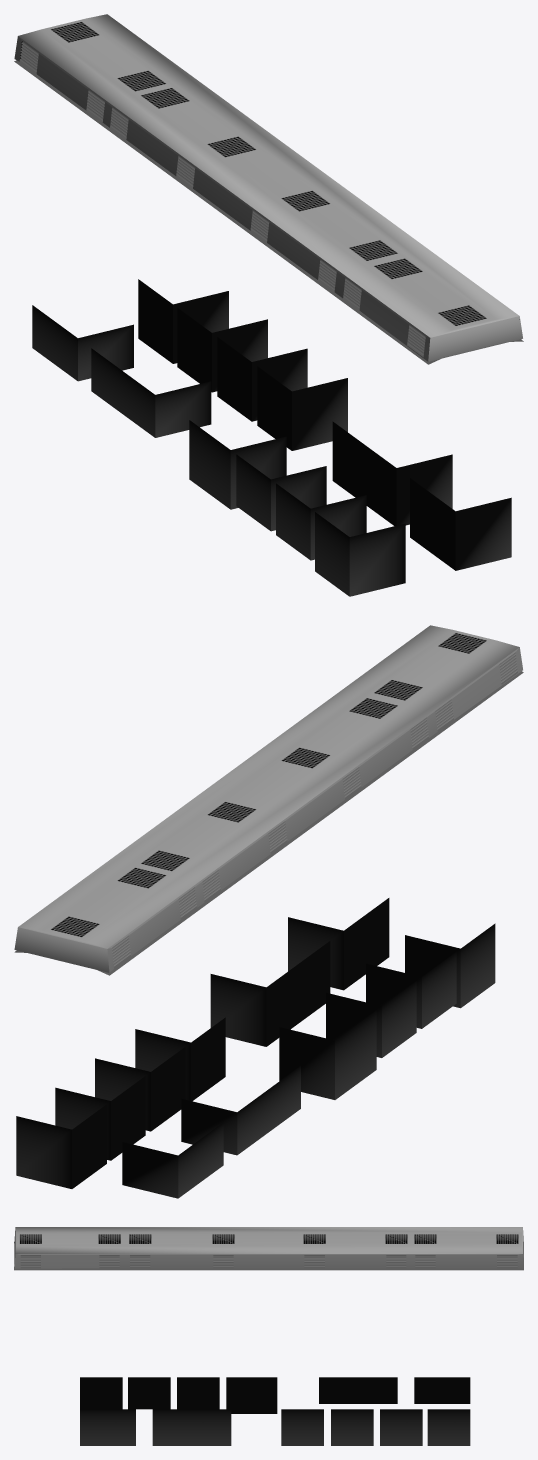
The model's file is H8200_PANTA01.glb.
3 views of the same model, one above another, from view 1: azimuth 30°, elevation 25°; view 2: azimuth 150°, elevation 25°; view 3: azimuth 270°, elevation 25° (orthographic). The views are drawn at different scales.
Visible parts, largest first — view 1: Mesh1; view 2: Mesh1; view 3: Mesh1.
Boxes of the visible parts, bbox=[...] form: Mesh1: bbox=[14, 14, 523, 596]; Mesh1: bbox=[14, 625, 523, 1198]; Mesh1: bbox=[14, 1227, 523, 1445].
Bounding box in the file's own units: 5.11 × 8.83 × 22.67.
Materials: 12 (12 with a texture image).
